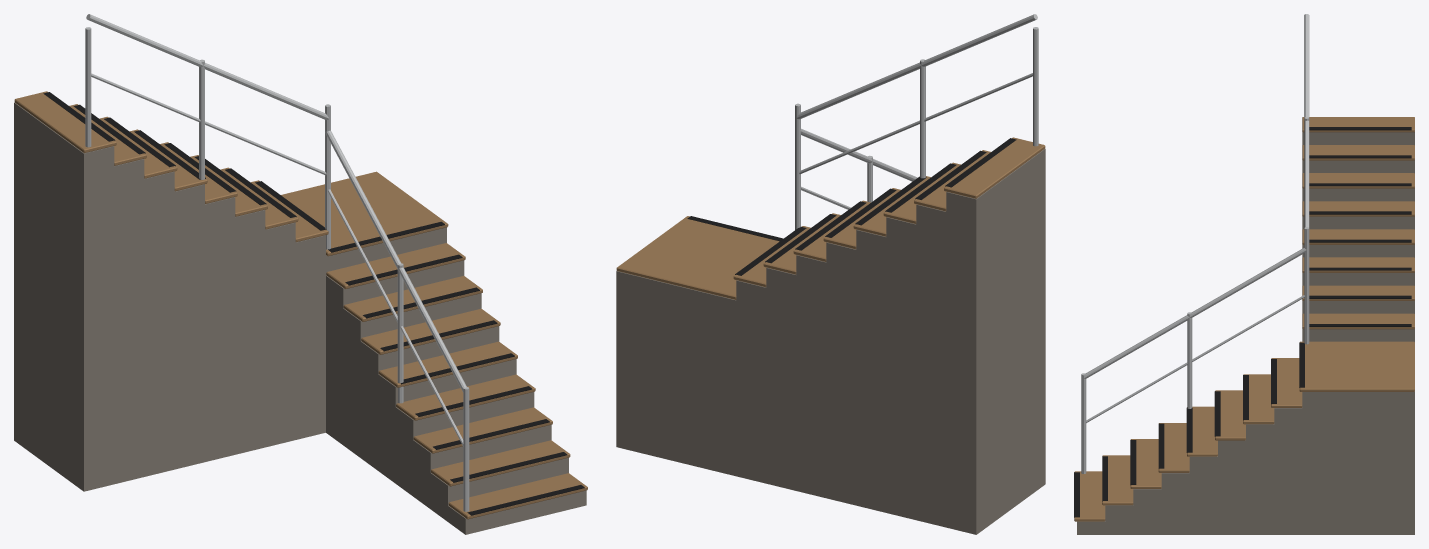
File: StairsLanding.fbx
The picture shows the model from 3 angles, left to right: view 1: azimuth 30°, elevation 25°; view 2: azimuth 150°, elevation 25°; view 3: azimuth 270°, elevation 25°; orthographic projection. The views are drawn at different scales.
Visible parts, largest first — view 1: StairsLanding_Mesh; view 2: StairsLanding_Mesh; view 3: StairsLanding_Mesh.
Boxes of the visible parts, left/top/right/bottom form: StairsLanding_Mesh: left=14, top=14, right=587, bottom=534; StairsLanding_Mesh: left=616, top=14, right=1045, bottom=534; StairsLanding_Mesh: left=1074, top=14, right=1414, bottom=534.
Bounding box in the file's own units: 3 × 3.74 × 3.03.
